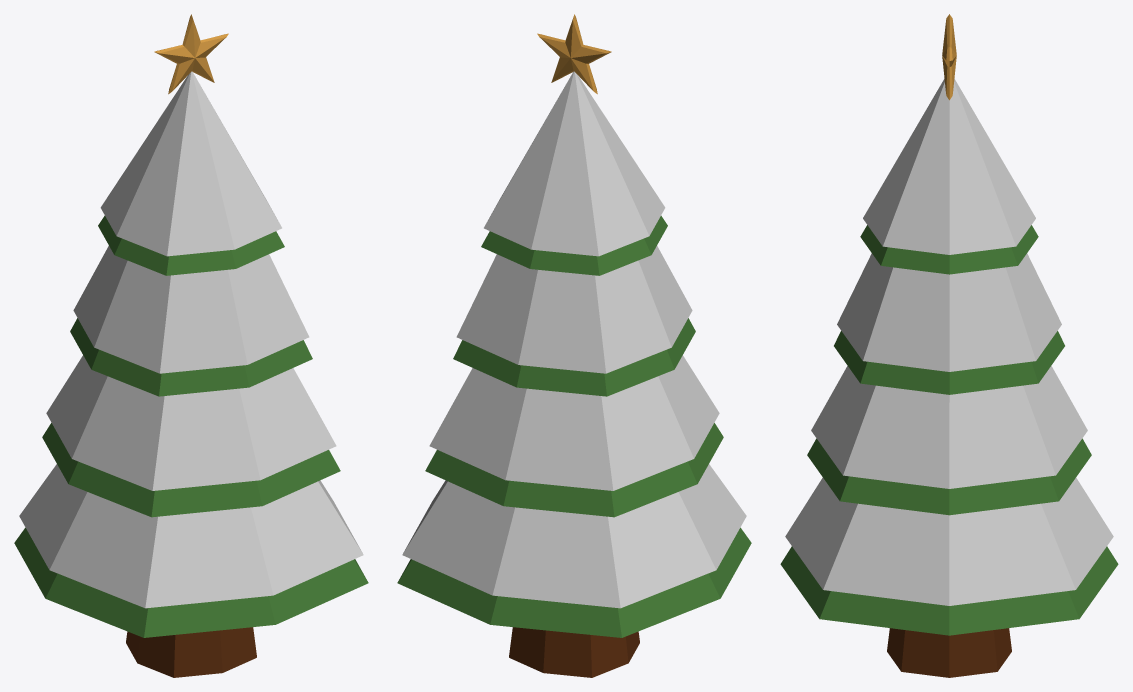
File: christmas tree002.fbx
3 views of the same model, side by side, from view 1: azimuth 30°, elevation 25°; view 2: azimuth 150°, elevation 25°; view 3: azimuth 270°, elevation 25° (orthographic).
Visible parts, largest first — view 1: Cube; view 2: Cube; view 3: Cube.
Boxes of the visible parts, x1,y1,x2,y2 form: Cube: (14,14,368,677); Cube: (397,14,751,677); Cube: (780,14,1118,677).
Bounding box in the file's own units: 702 × 1461 × 702.
